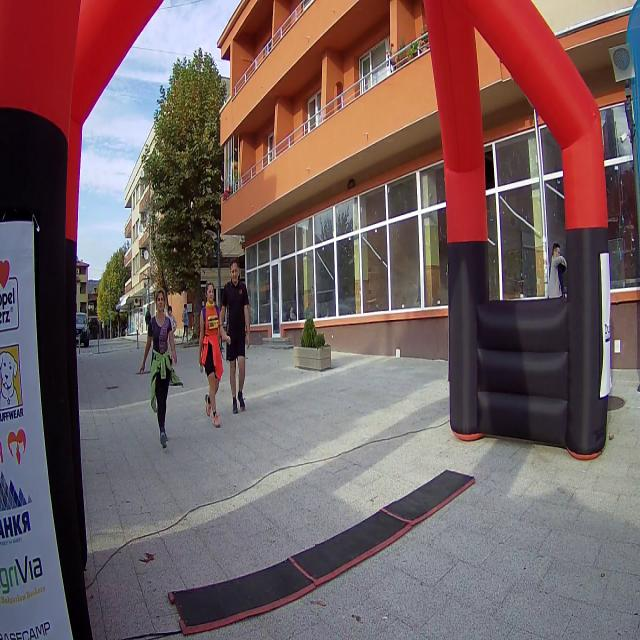runner: (139, 280, 179, 452), (194, 254, 226, 438), (224, 255, 250, 423)
